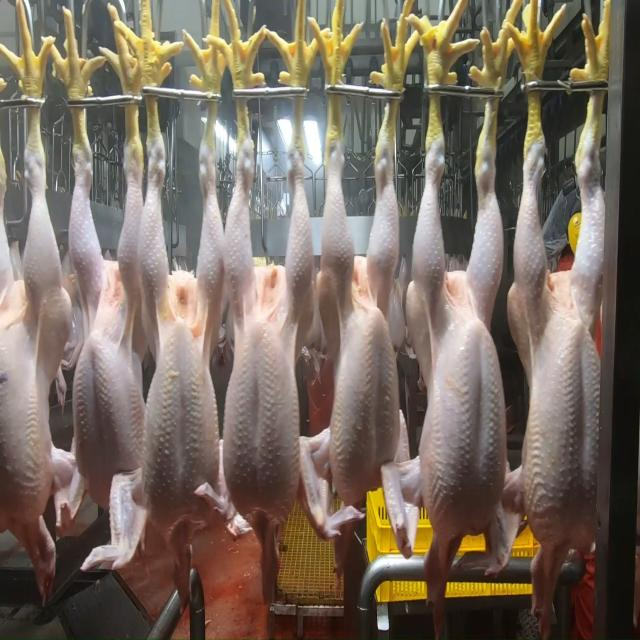chicken: (413, 160, 512, 540), (515, 145, 608, 537), (314, 151, 408, 506), (220, 168, 318, 507), (135, 168, 226, 514), (0, 169, 70, 544), (62, 174, 143, 489)
